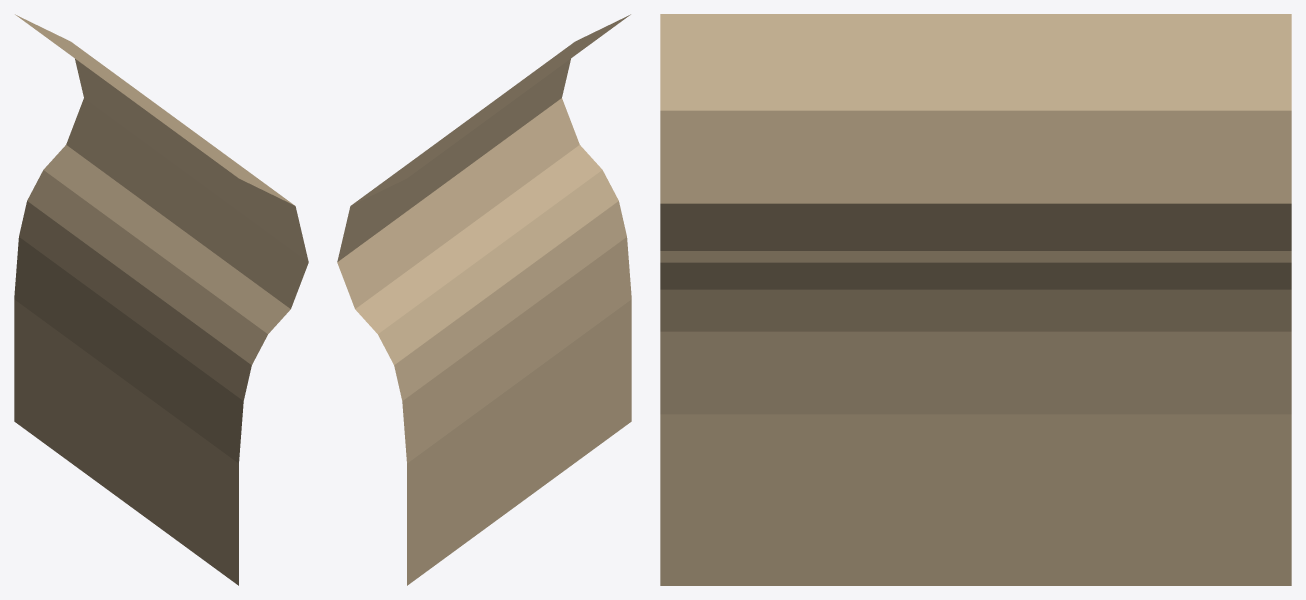
The model's file is Escarpment_Terrain_Side_Falloff_Center.obj.
3 renders of one model, left to right at view 1: azimuth 30°, elevation 25°; view 2: azimuth 150°, elevation 25°; view 3: azimuth 270°, elevation 25°, orthographic. The views are drawn at different scales.
Parts seen in each view (by area): view 1: object1; view 2: object1; view 3: object1.
Part boxes in pixels (box(x1,y1,x2,y2)): object1: box(14, 14, 308, 585); object1: box(337, 14, 631, 585); object1: box(660, 14, 1291, 585).
Bounding box in the file's own units: 0.1793 × 1 × 1.
